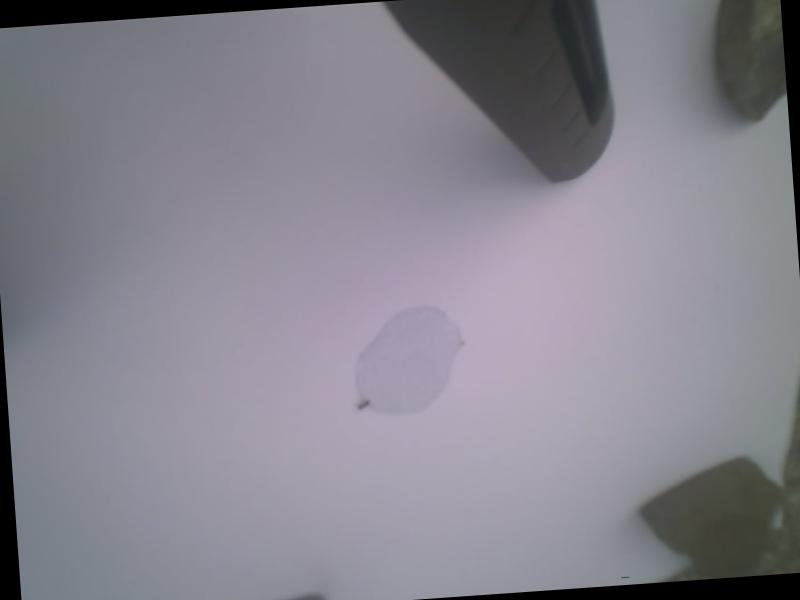Ant: (355, 399, 368, 410)
